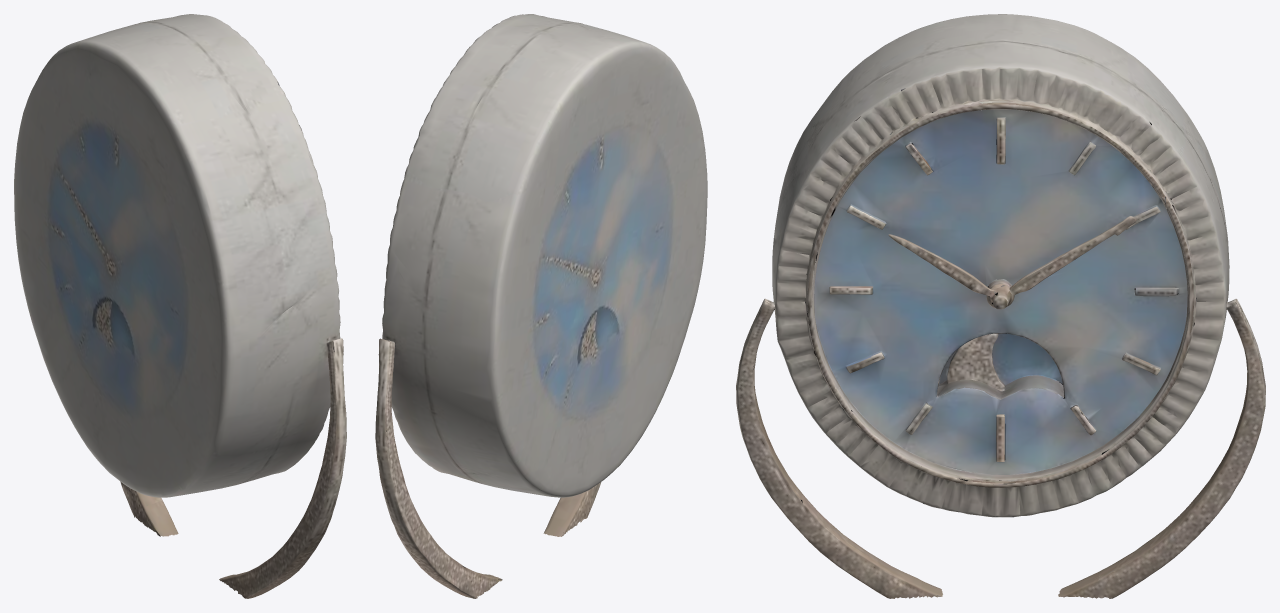
Rendered from SE-08_clock_game.glb.
3 views of the same model, side by side, from view 1: azimuth 30°, elevation 25°; view 2: azimuth 150°, elevation 25°; view 3: azimuth 270°, elevation 25° (orthographic). The views are drawn at different scales.
Visible parts, largest first — view 1: SE-08_clock; view 2: SE-08_clock; view 3: SE-08_clock.
Boxes of the visible parts, bbox=[...] form: SE-08_clock: bbox=[14, 14, 346, 598]; SE-08_clock: bbox=[375, 14, 707, 598]; SE-08_clock: bbox=[736, 14, 1265, 598].
Size of the model in its own units: 0.0844 by 0.32 by 0.2816.
1 material, 1 textured.
